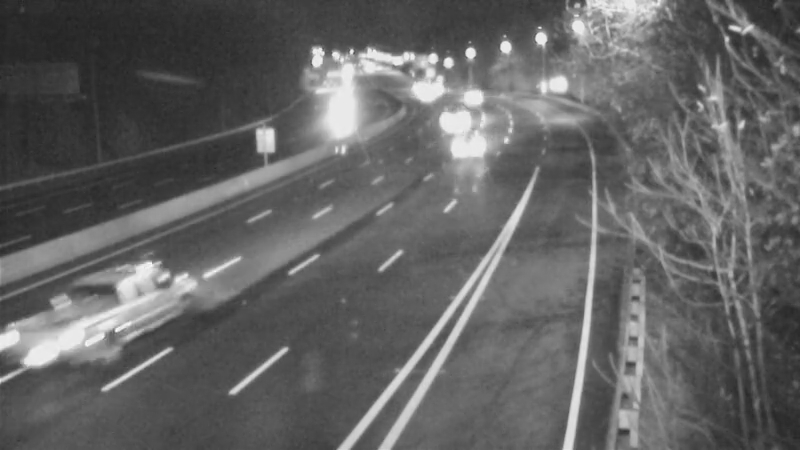vehicle: (34, 260, 144, 370), (400, 71, 450, 121), (451, 70, 501, 120), (434, 92, 484, 142), (451, 118, 501, 168), (315, 90, 365, 140)
